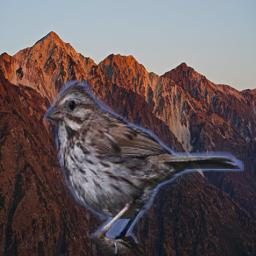Sparrow: (44, 77, 244, 254)
